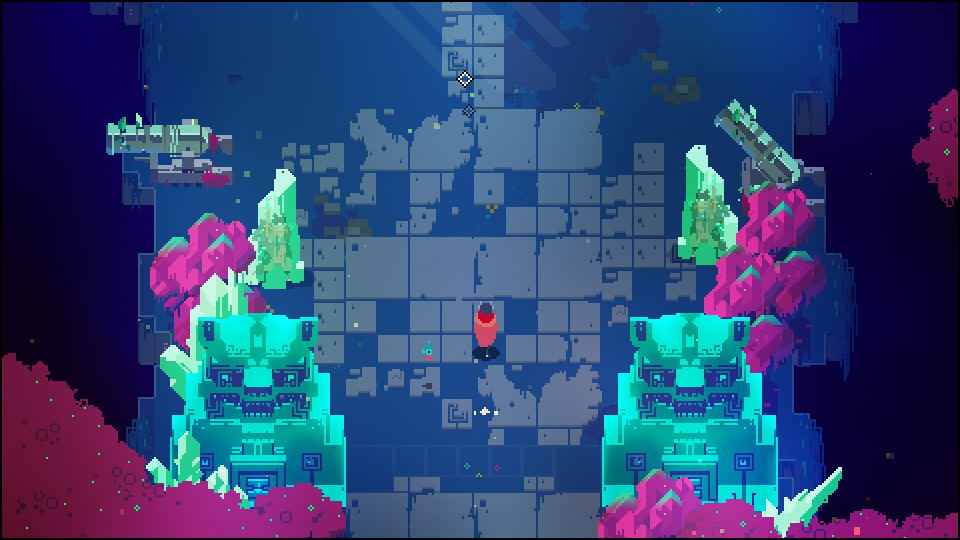player: (474, 301, 501, 358)
